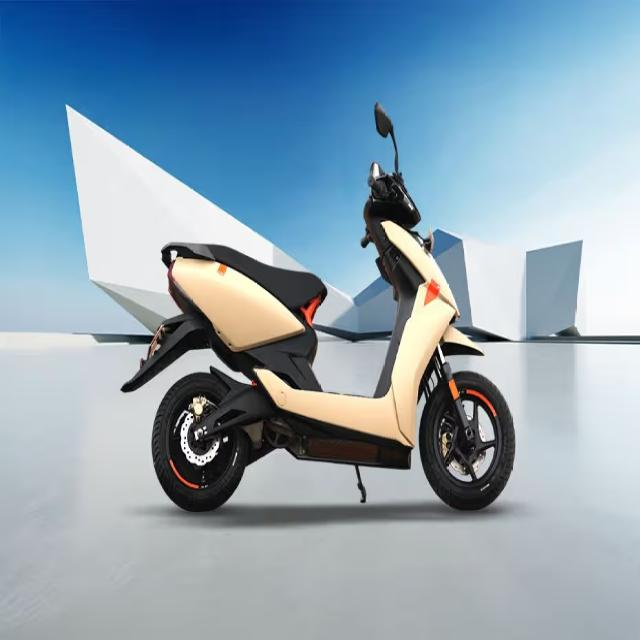objects: (132, 90, 530, 572)
